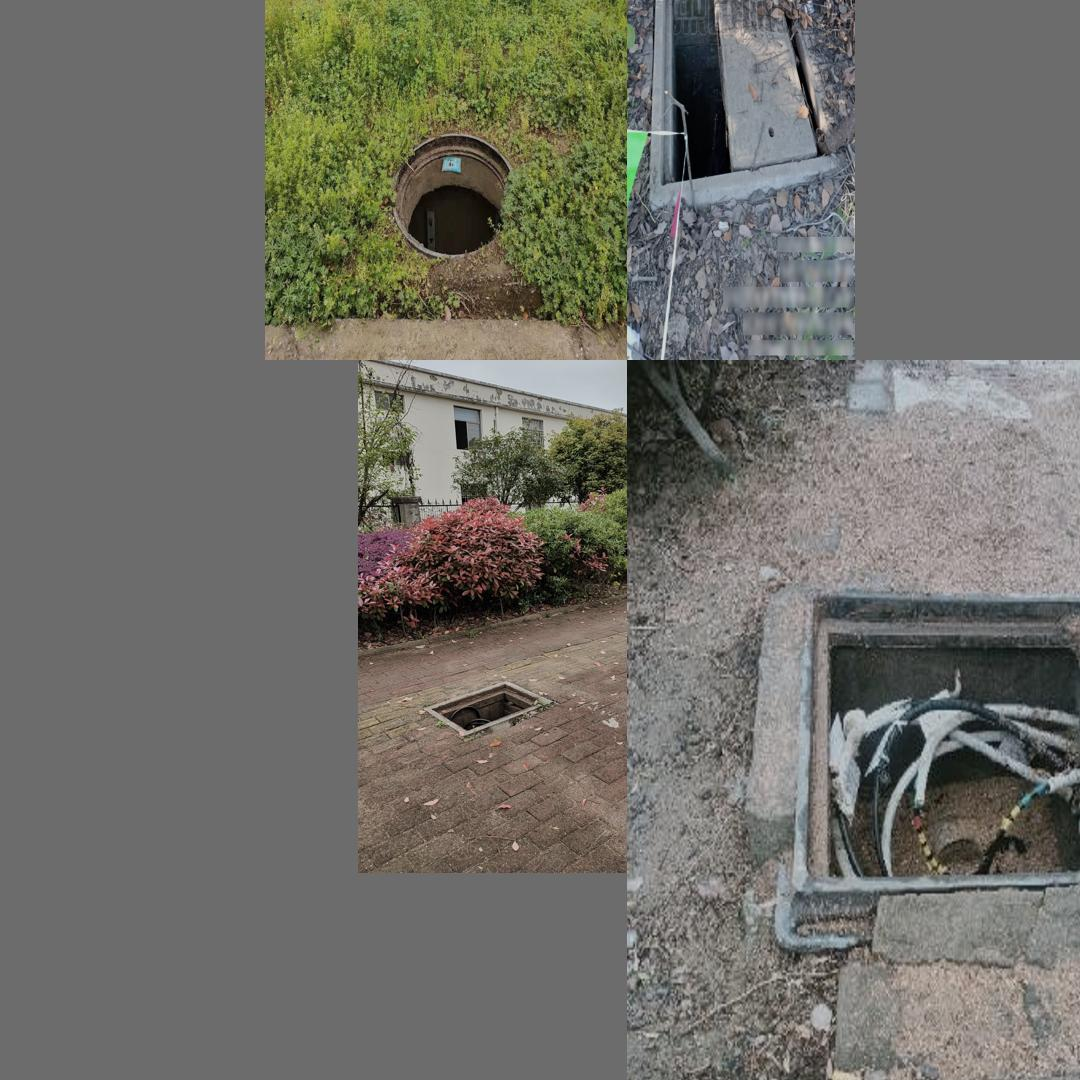lose: (794, 587, 1080, 910), (648, 0, 852, 208), (391, 130, 518, 259), (419, 676, 560, 743)
